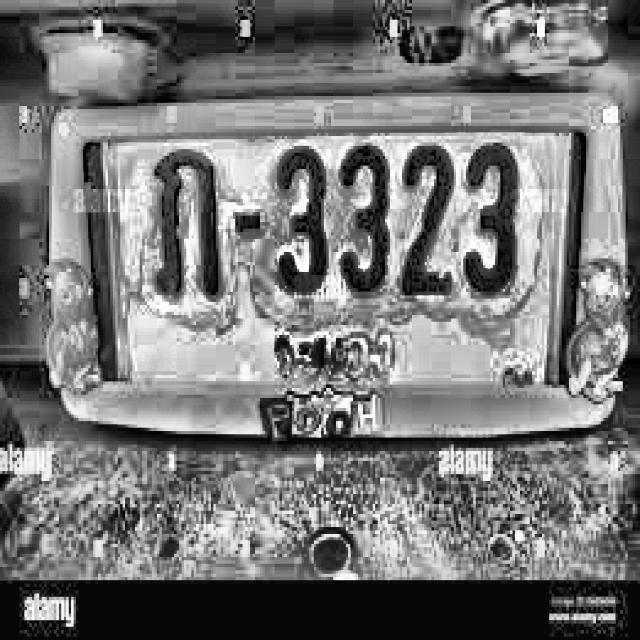license-plate: (19, 86, 640, 467)
